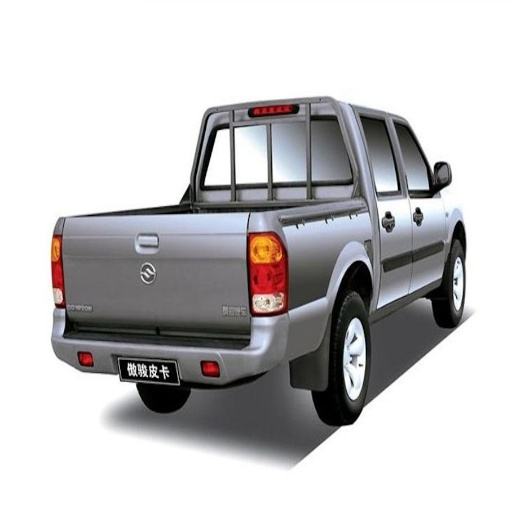_background_: (154, 312, 321, 384)
back_left_door: (51, 230, 65, 307)
back_left_light: (360, 110, 410, 320)
back_right_door: (249, 231, 289, 315)
front_left_light: (397, 119, 444, 286)
tailgate: (65, 197, 364, 360)
trunk: (313, 292, 372, 424), (434, 242, 464, 326), (140, 387, 188, 412)
